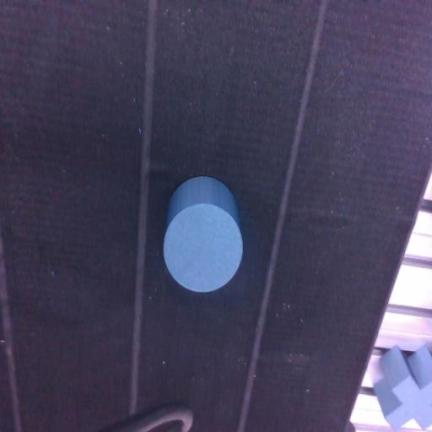cylinder: (163, 176, 242, 292)
